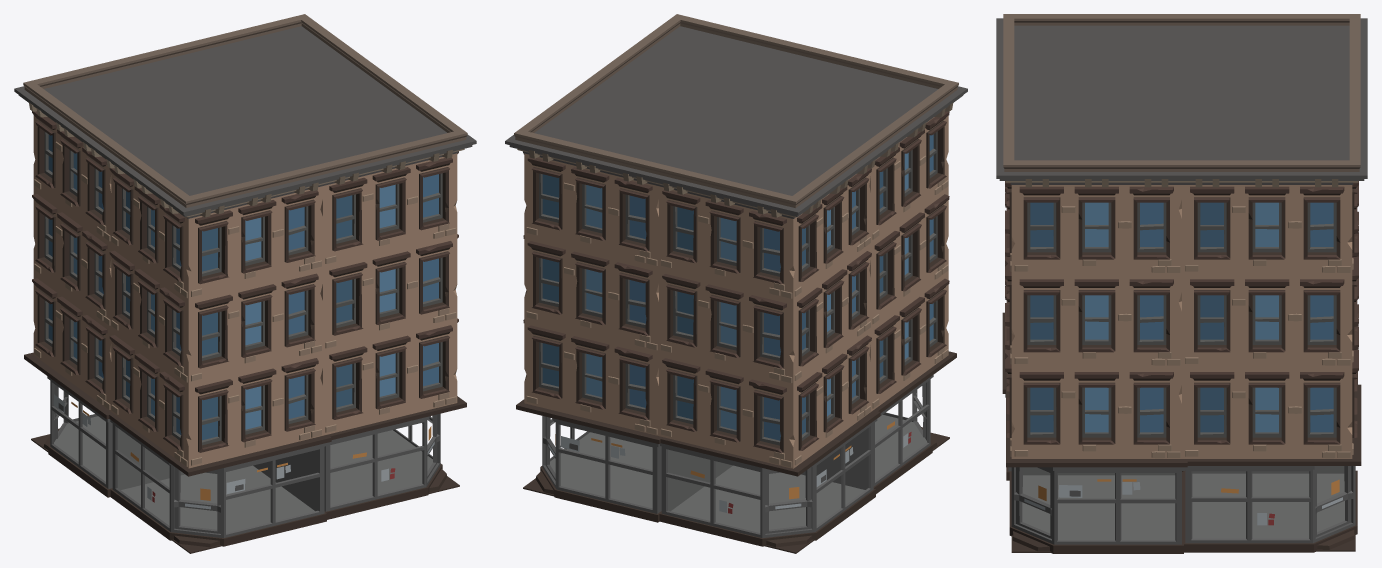
The model's file is store.gltf.
3 renders of one model, left to right at view 1: azimuth 30°, elevation 25°; view 2: azimuth 150°, elevation 25°; view 3: azimuth 270°, elevation 25°, orthographic. The views are drawn at different scales.
Parts seen in each view (by area): view 1: Door, SmBldApartmentCorner02, SmBldApartmentCorner01, SmBldApartmentCorner03, SmBldApartmentRoofCorner02, SmBldApartmentRoofCorner024, SmBldApartmentRoofCorner023, SmBldApartmentRoofCorner022, SmBldApartmentCorner014, SmBldApartmentCorner024, SmBldApartmentCorner034, Door4 (+4 smaller); view 2: Door2, SmBldApartmentCorner022, SmBldApartmentCorner012, SmBldApartmentCorner032, SmBldApartmentRoofCorner022, SmBldApartmentRoofCorner023, SmBldApartmentRoofCorner02, SmBldApartmentRoofCorner024, SmBldApartmentCorner023, SmBldApartmentCorner013, SmBldApartmentCorner033, Door3 (+4 smaller); view 3: SmBldApartmentRoofCorner023, SmBldApartmentRoofCorner024, Door3, Door4, SmBldApartmentCorner024, SmBldApartmentCorner014, SmBldApartmentCorner023, SmBldApartmentCorner013, SmBldApartmentRoofCorner02, SmBldApartmentRoofCorner022, SmBldApartmentCorner034, SmBldApartmentCorner033.
Part boxes in pixels (x1,y1,x2,y2): Door: (106, 411, 331, 553); SmBldApartmentCorner02: (109, 243, 322, 383); SmBldApartmentCorner01: (109, 328, 322, 468); SmBldApartmentCorner03: (109, 168, 322, 299); SmBldApartmentRoofCorner02: (96, 112, 333, 218); SmBldApartmentRoofCorner024: (247, 74, 476, 185); SmBldApartmentRoofCorner023: (165, 14, 386, 115); SmBldApartmentRoofCorner022: (14, 48, 246, 157); SmBldApartmentCorner014: (320, 318, 458, 435); SmBldApartmentCorner024: (320, 234, 458, 351); SmBldApartmentCorner034: (320, 151, 458, 266); Door4: (321, 396, 466, 519); Door2: (655, 411, 880, 553); SmBldApartmentCorner022: (659, 243, 871, 384); SmBldApartmentCorner012: (659, 328, 871, 468); SmBldApartmentCorner032: (659, 168, 871, 299); SmBldApartmentRoofCorner022: (647, 116, 885, 218); SmBldApartmentRoofCorner023: (505, 73, 739, 185); SmBldApartmentRoofCorner02: (730, 48, 967, 157); SmBldApartmentRoofCorner024: (596, 14, 817, 117); SmBldApartmentCorner023: (523, 234, 658, 351); SmBldApartmentCorner013: (523, 319, 658, 435); SmBldApartmentCorner033: (523, 153, 658, 267); Door3: (516, 399, 662, 522); SmBldApartmentRoofCorner023: (1176, 90, 1367, 187); SmBldApartmentRoofCorner024: (996, 89, 1187, 187); Door3: (1179, 384, 1361, 552); Door4: (1006, 389, 1187, 553); SmBldApartmentCorner024: (1005, 210, 1181, 366); SmBldApartmentCorner014: (1005, 303, 1181, 458); SmBldApartmentCorner023: (1182, 211, 1358, 366); SmBldApartmentCorner013: (1182, 303, 1358, 458); SmBldApartmentRoofCorner02: (996, 14, 1187, 99); SmBldApartmentRoofCorner022: (1176, 14, 1367, 99); SmBldApartmentCorner034: (1005, 181, 1181, 273); SmBldApartmentCorner033: (1182, 181, 1358, 273).
Bounding box in the file's own units: 10.91 × 12.64 × 10.91.
